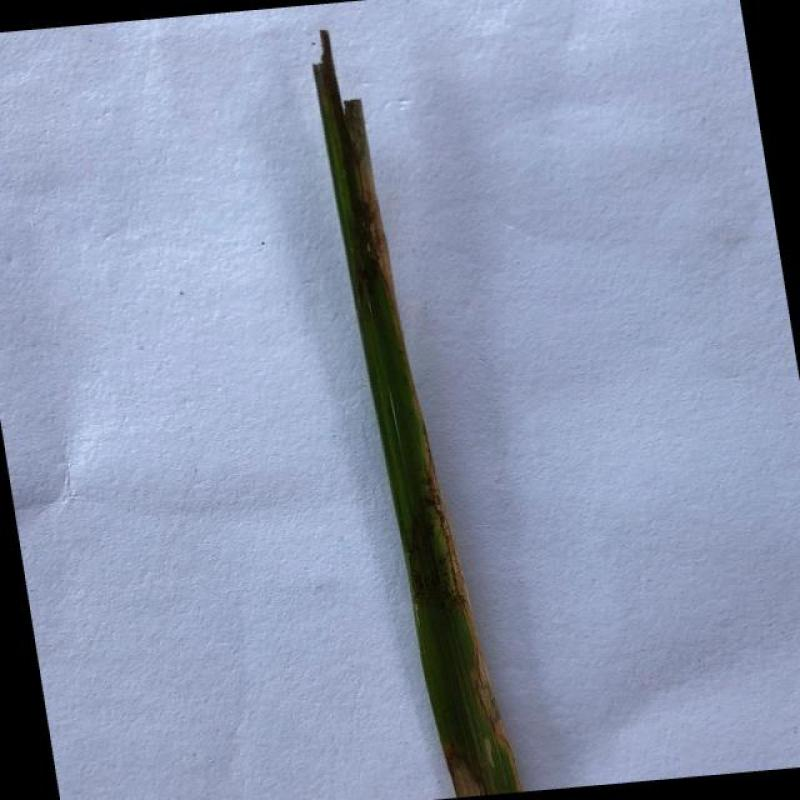Bacterial_Leaf_Blight: (418, 426, 526, 790), (349, 136, 396, 285), (445, 759, 491, 799)
